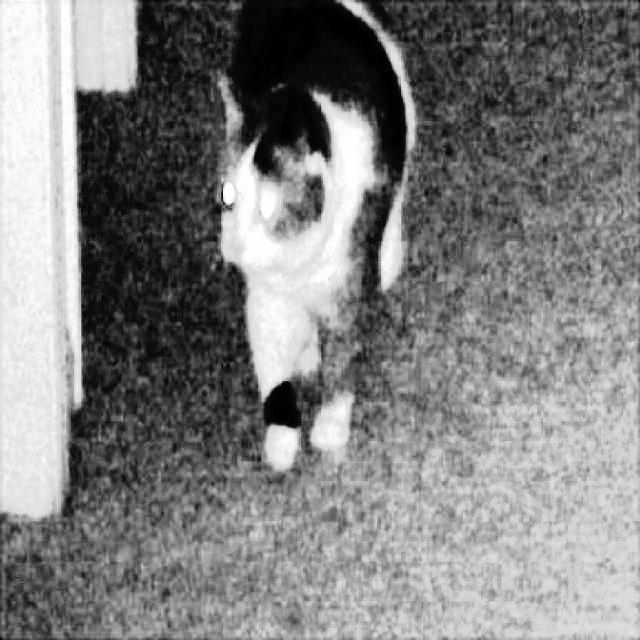Cat: (209, 0, 420, 480)
